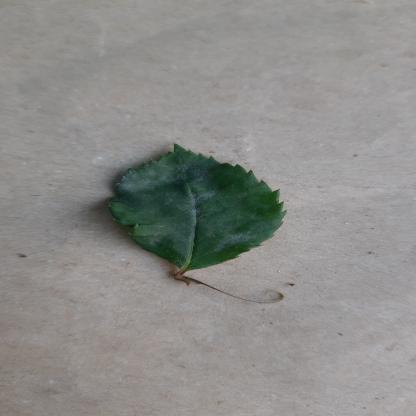powdery-mildew: (97, 144, 293, 270)
